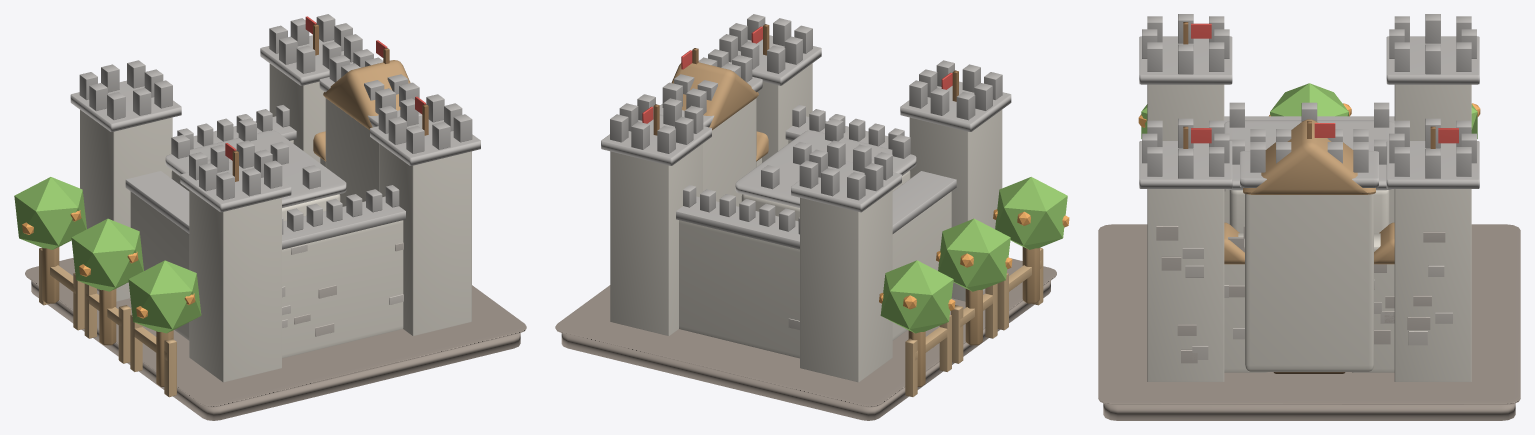
File: burg_level_2.glb
The picture shows the model from 3 angles, left to right: view 1: azimuth 30°, elevation 25°; view 2: azimuth 150°, elevation 25°; view 3: azimuth 270°, elevation 25°; orthographic projection. The views are drawn at different scales.
Visible parts, largest first — view 1: TBL, TFL, WallLeft, PlatformEdge, TBR, Platform, Leaves_-0.85_-0.5, Leaves_-0.85_0, Leaves_-0.85_0.5, Gatehouse, InnerKeepTop, TFR (+29 smaller); view 2: TBR, WallRight, TFR, PlatformEdge, TBL, Platform, Leaves_-0.85_0.5, Leaves_-0.85_0, Leaves_-0.85_-0.5, Gatehouse, InnerKeepTop, TFL (+29 smaller); view 3: PlatformEdge, Gatehouse, TFR, TFL, Platform, GateRoof, TBL, TBR, TBR_cap, TBL_cap, TFL_cap, TFR_cap (+27 smaller).
Part boxes in pixels (<box>): TBL: <box>189,190,281,382</box>; TFL: <box>379,143,471,335</box>; WallLeft: <box>282,220,403,358</box>; PlatformEdge: <box>25,257,526,407</box>; TBR: <box>80,110,172,301</box>; Platform: <box>31,281,520,420</box>; Leaves_-0.85_-0.5: <box>128,260,201,333</box>; Leaves_-0.85_0: <box>71,218,143,291</box>; Leaves_-0.85_0.5: <box>14,177,86,249</box>; Gatehouse: <box>325,98,378,206</box>; InnerKeepTop: <box>165,130,346,207</box>; TFR: <box>269,63,325,162</box>; TBR: <box>800,190,892,382</box>; WallRight: <box>679,220,799,358</box>; TFR: <box>610,143,702,335</box>; PlatformEdge: <box>555,258,1056,407</box>; TBL: <box>909,110,1002,301</box>; Platform: <box>561,281,1050,420</box>; Leaves_-0.85_0.5: <box>880,260,953,333</box>; Leaves_-0.85_0: <box>938,218,1010,291</box>; Leaves_-0.85_-0.5: <box>995,177,1067,249</box>; Gatehouse: <box>703,98,756,206</box>; InnerKeepTop: <box>735,130,916,207</box>; TFL: <box>756,63,812,162</box>; PlatformEdge: <box>1098,224,1520,404</box>; Gatehouse: <box>1245,194,1373,371</box>; TFR: <box>1394,189,1471,381</box>; TFL: <box>1147,189,1224,381</box>; Platform: <box>1103,403,1515,420</box>; GateRoof: <box>1243,119,1375,194</box>; TBL: <box>1147,84,1224,140</box>; TBR: <box>1394,84,1471,140</box>; TBR_cap: <box>1386,36,1479,84</box>; TBL_cap: <box>1139,36,1232,84</box>; TFL_cap: <box>1139,141,1232,188</box>; TFR_cap: <box>1386,141,1479,188</box>.
Bounding box in the file's own units: 1.84 × 1.17 × 1.64.
